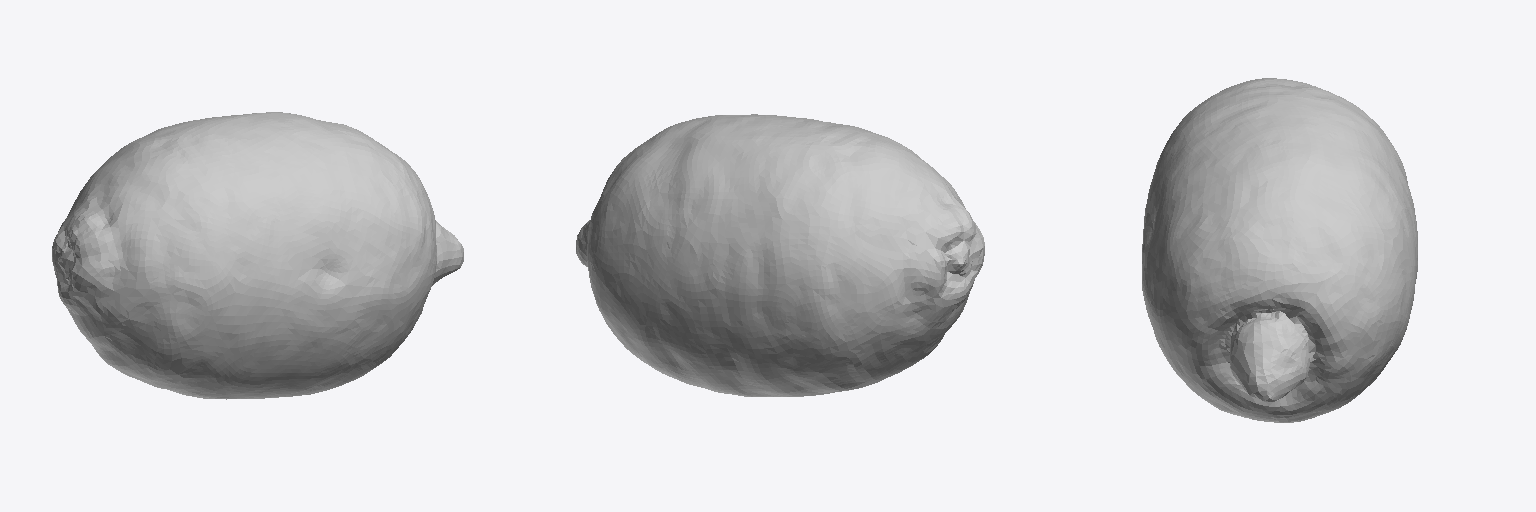
3 renders of one model, left to right at view 1: azimuth 30°, elevation 25°; view 2: azimuth 150°, elevation 25°; view 3: azimuth 270°, elevation 25°, orthographic.
Visible parts, largest first — view 1: objdefault; view 2: objdefault; view 3: objdefault.
Boxes of the visible parts, box(x1,y1,x2,y2) form: objdefault: box(52, 112, 463, 399); objdefault: box(576, 114, 984, 396); objdefault: box(1142, 78, 1417, 422).
Bounding box in the file's own units: 12.31 × 7.91 × 7.44.